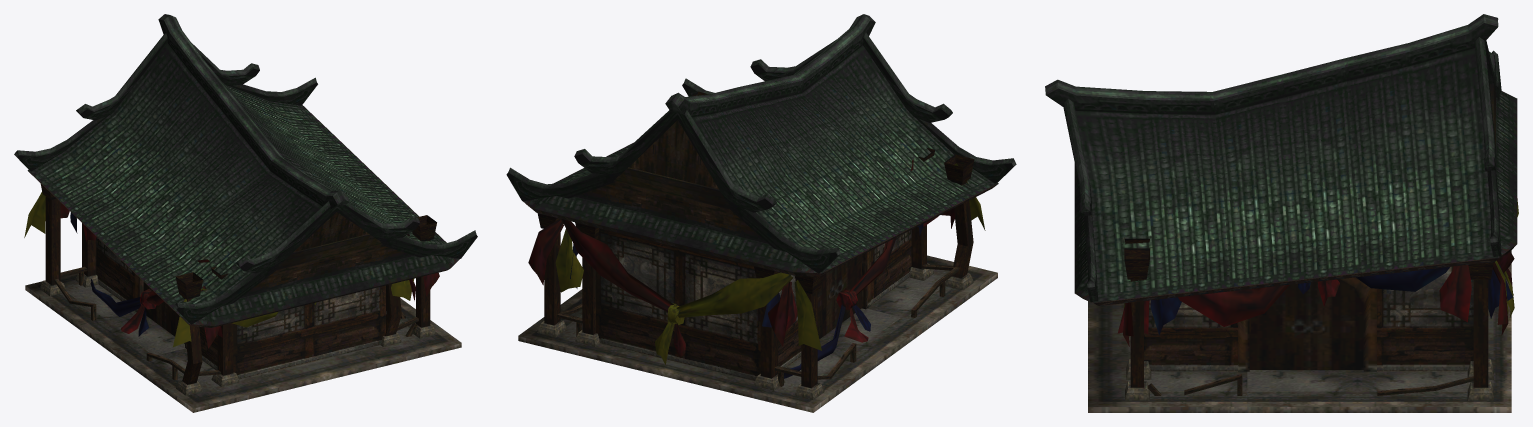
The model's file is c1-032-shamanhouse_01.fbx.
The picture shows the model from 3 angles, left to right: view 1: azimuth 30°, elevation 25°; view 2: azimuth 150°, elevation 25°; view 3: azimuth 270°, elevation 25°; orthographic projection. The views are drawn at different scales.
Parts seen in each view (by area): view 1: c1-032-shamanhouse-1; view 2: c1-032-shamanhouse-1; view 3: c1-032-shamanhouse-1.
Part boxes in pixels (<box>): c1-032-shamanhouse-1: <box>14,14,477,412</box>; c1-032-shamanhouse-1: <box>506,14,1016,412</box>; c1-032-shamanhouse-1: <box>1045,14,1518,412</box>.
Size of the model in its own units: 9.89 by 7.86 by 10.68.
